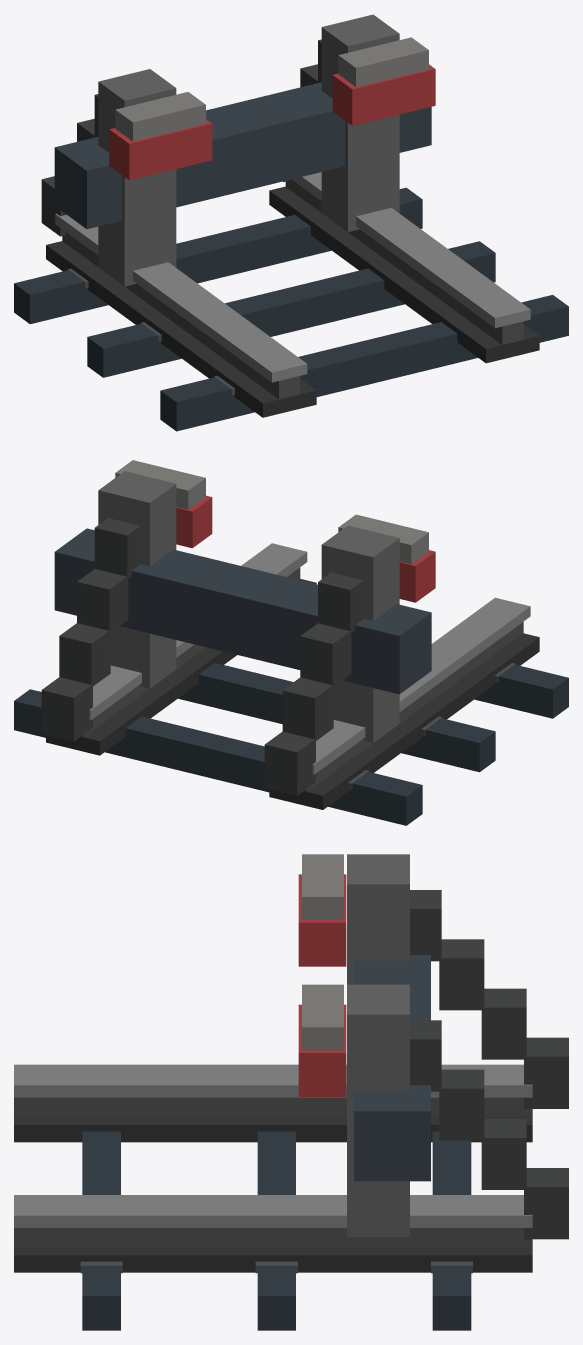
The model's file is CMU3DRailroadBumper.glb.
3 views of the same model, one above another, from view 1: azimuth 30°, elevation 25°; view 2: azimuth 150°, elevation 25°; view 3: azimuth 270°, elevation 25° (orthographic). The views are drawn at different scales.
Parts seen in each view (by area): view 1: dark transverse sleeper (×3), buffer transverse beam, buffer upright (×2), polished rail head (×2), rail foot (×2), red buffer face (×2), upper steel buffer edge (×2), rail web (×2), rear buffer brace; view 2: buffer transverse beam, rear buffer brace (×8), dark transverse sleeper (×3), buffer upright (×2), rail foot (×2), polished rail head (×2), upper steel buffer edge (×2), rail web (×2), red buffer face (×2); view 3: polished rail head (×2), rear buffer brace (×8), rail foot (×2), buffer upright (×2), rail web (×2), dark transverse sleeper (×3), buffer transverse beam, upper steel buffer edge (×2), red buffer face (×2).
Boxes of the visible parts, x1=… form: dark transverse sleeper (×3): x1=14, y1=187, x2=568, y2=431; buffer transverse beam: x1=54, y1=82, x2=431, y2=228; buffer upright (×2): x1=98, y1=14, x2=399, y2=286; polished rail head (×2): x1=55, y1=172, x2=530, y2=382; rail foot (×2): x1=46, y1=186, x2=539, y2=417; red buffer face (×2): x1=109, y1=64, x2=435, y2=180; upper steel buffer edge (×2): x1=115, y1=37, x2=428, y2=141; rail web (×2): x1=62, y1=179, x2=523, y2=399; rear buffer brace: x1=41, y1=176, x2=66, y2=236; buffer transverse beam: x1=54, y1=528, x2=431, y2=694; rear buffer brace (×8): x1=41, y1=518, x2=363, y2=795; dark transverse sleeper (×3): x1=14, y1=663, x2=568, y2=825; buffer upright (×2): x1=98, y1=471, x2=399, y2=742; rail foot (×2): x1=46, y1=579, x2=539, y2=809; polished rail head (×2): x1=89, y1=543, x2=530, y2=774; upper steel buffer edge (×2): x1=115, y1=460, x2=428, y2=564; rail web (×2): x1=81, y1=567, x2=523, y2=791; red buffer face (×2): x1=176, y1=495, x2=435, y2=602; polished rail head (×2): x1=14, y1=1064, x2=532, y2=1227; rear buffer brace (×8): x1=410, y1=890, x2=568, y2=1239; rail foot (×2): x1=14, y1=1115, x2=532, y2=1272; buffer upright (×2): x1=347, y1=854, x2=409, y2=1236; rail web (×2): x1=14, y1=1097, x2=532, y2=1245; dark transverse sleeper (×3): x1=82, y1=1131, x2=471, y2=1330; buffer transverse beam: x1=354, y1=955, x2=430, y2=1181; upper steel buffer edge (×2): x1=302, y1=854, x2=343, y2=1050; red buffer face (×2): x1=298, y1=874, x2=346, y2=1096.
Size of the model in its own units: 0.7738 by 0.4435 by 0.7918.
